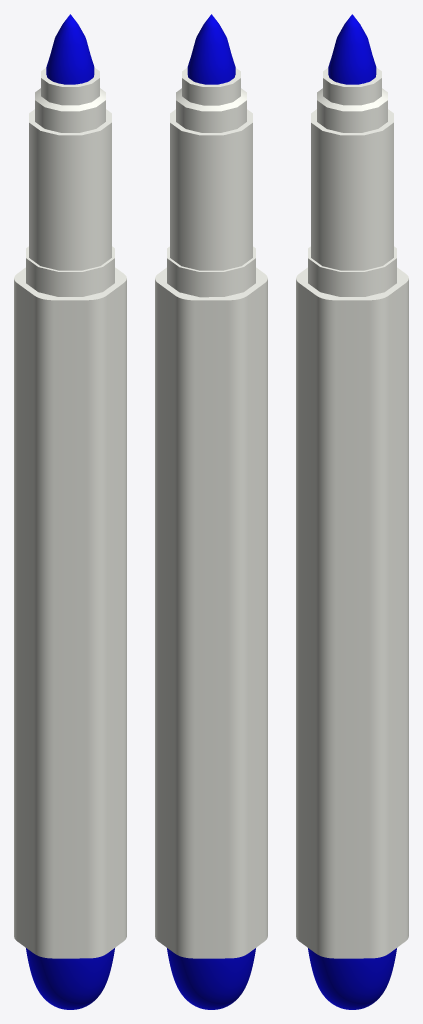
File: markerNoCap.fbx
3 views of the same model, side by side, from view 1: azimuth 30°, elevation 25°; view 2: azimuth 210°, elevation 25°; view 3: azimuth 330°, elevation 25° (orthographic).
Visible parts, largest first — view 1: marker; view 2: marker; view 3: marker.
Part boxes in pixels (box(x1,y1,x2,y2)): marker: box(14, 14, 126, 1009); marker: box(155, 14, 267, 1009); marker: box(296, 14, 408, 1009).
Bounding box in the file's own units: 3.47 × 36.61 × 3.78.
